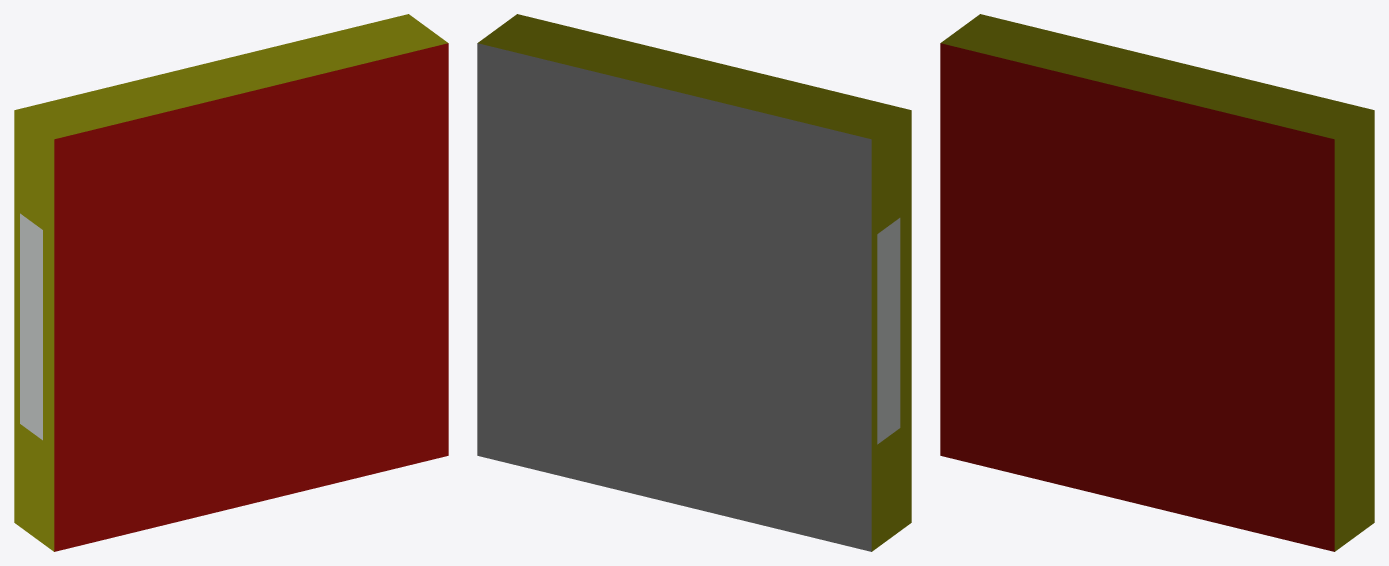
The model's file is idf.obj.
3 renders of one model, left to right at view 1: azimuth 30°, elevation 25°; view 2: azimuth 150°, elevation 25°; view 3: azimuth 330°, elevation 25°, orthographic.
Size of the model in its own units: 20 by 20 by 3.5.
